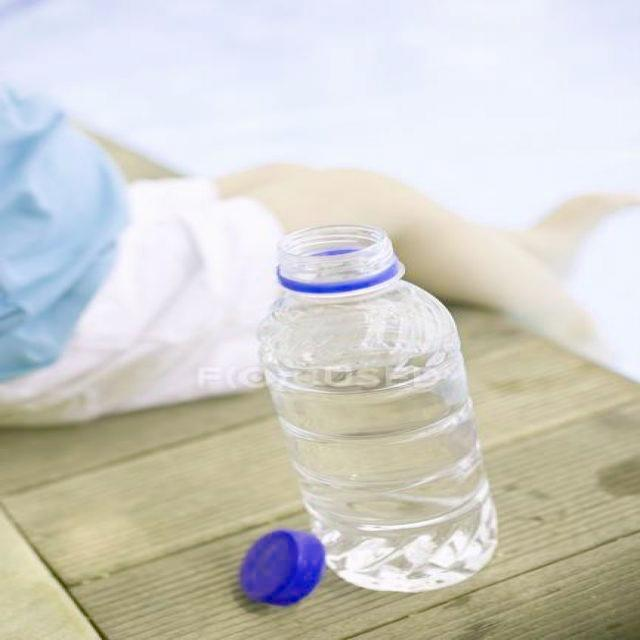bottle: (256, 223, 498, 592)
